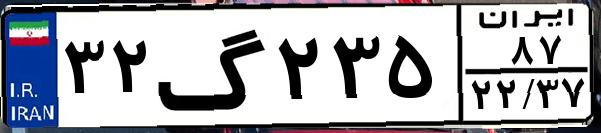2: (270, 28, 330, 110), (110, 28, 156, 98), (470, 70, 495, 125), (495, 70, 520, 125)
3: (330, 28, 385, 110), (57, 26, 110, 100), (535, 70, 560, 125)
5: (385, 28, 445, 110)
7: (560, 70, 590, 125), (537, 27, 568, 80)
8: (508, 27, 537, 80)
گ: (156, 12, 270, 120)
